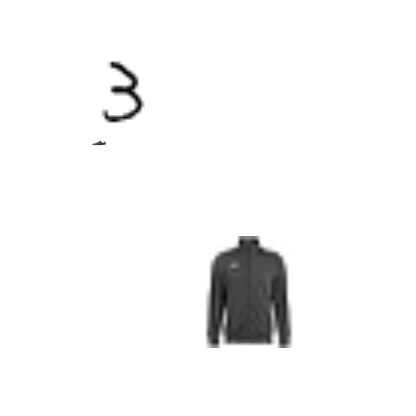3: (81, 50, 165, 134)
Coat: (191, 236, 303, 348)
Sneaker: (92, 136, 106, 150)
